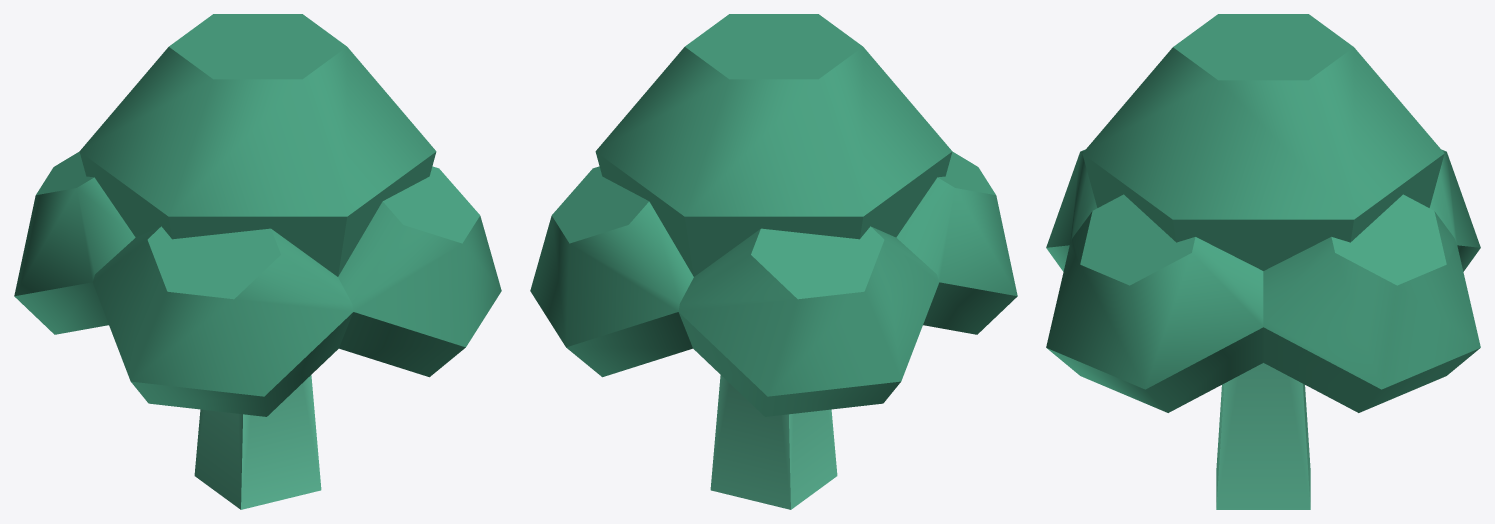
Rendered from broccoli.GLB.
3 renders of one model, left to right at view 1: azimuth 30°, elevation 25°; view 2: azimuth 150°, elevation 25°; view 3: azimuth 270°, elevation 25°, orthographic.
Parts seen in each view (by area): view 1: broccoli; view 2: broccoli; view 3: broccoli.
Boxes of the visible parts, <box> form: broccoli: <box>14,14,501,509</box>; broccoli: <box>530,14,1017,509</box>; broccoli: <box>1046,14,1480,509</box>.
Size of the model in its own units: 0.3752 by 0.4217 by 0.3752.
